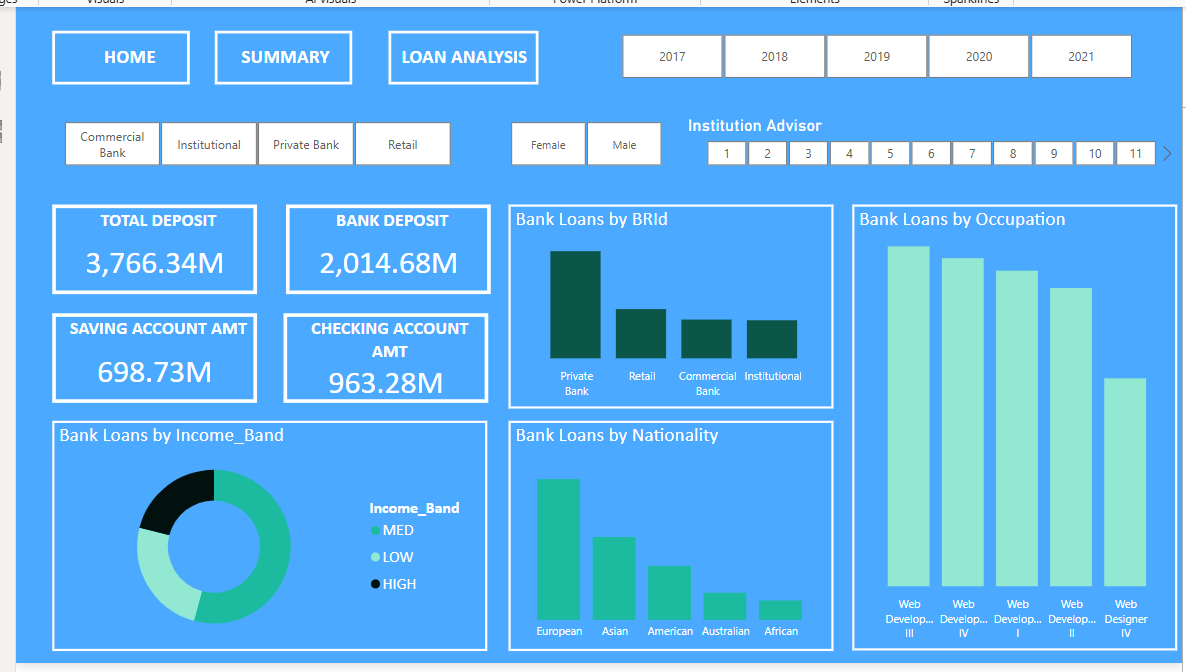

The dashboard page shown, as its layout file describes it:
{"tool":"powerbi","page":{"name":"Deposit Analysis","canvas":[1280,720],"ordinal":2},"visuals":[{"type":"actionButton","box":[39.8,26.1,150.9,59],"z":0},{"type":"actionButton","box":[218.2,26.1,150.9,59],"z":1000},{"type":"actionButton","box":[408.9,26.1,164.7,59],"z":2000},{"type":"card","title":"TOTAL DEPOSIT","fields":{"Values":["Banking.Total_Deposit"]},"box":[39.8,216.8,225,98.8],"z":3000},{"type":"card","title":"BANK DEPOSIT","fields":{"Values":["Sum(Banking.Bank Deposits)"]},"box":[296.4,216.8,225,98.8],"z":4000},{"type":"card","title":"SAVING ACCOUNT AMT","fields":{"Values":["Sum(Banking.Saving Accounts)"]},"box":[39.8,336.2,225,98.8],"z":5000},{"type":"card","title":"CHECKING ACCOUNT AMT","fields":{"Values":["Sum(Banking.Checking Accounts)"]},"box":[293.7,336.2,225,98.8],"z":6000},{"type":"donutChart","title":"Bank Loans by Income_Band","fields":{"Category":["Banking.Income_Band"],"Y":["Sum(Banking.Bank Deposits)"]},"box":[39.8,454.2,477.5,252.5],"z":7000},{"type":"slicer","fields":{"Values":["Banking.BRId"]},"box":[27.4,119.4,473.4,61.7],"z":8000},{"type":"slicer","fields":{"Values":["Banking.GenderId"]},"box":[517.3,119.4,215.4,61.7],"z":9000},{"type":"slicer","title":"Institution Advisor","fields":{"Values":["Banking.IAId"]},"box":[732.8,119.4,542,61.7],"z":10000},{"type":"columnChart","title":"Bank Loans by BRId","fields":{"Category":["Banking.BRId"],"Y":["Sum(Banking.Bank Deposits)"]},"box":[540.7,216.8,356.8,223.7],"z":11000},{"type":"columnChart","title":"Bank Loans by Nationality","fields":{"Y":["Sum(Banking.Bank Deposits)"],"Category":["Banking.Nationality"]},"box":[540.7,454.2,356.8,252.5],"z":12000},{"type":"columnChart","title":"Bank Loans by Occupation","fields":{"Y":["Sum(Banking.Bank Deposits)"],"Category":["Banking.Occupation"]},"box":[918,216.8,356.8,489.9],"z":13000},{"type":"textbox","box":[218.2,37,146.8,38.4],"z":14000},{"type":"textbox","box":[27.4,37,146.8,38.4],"z":15000},{"type":"textbox","box":[393.8,37,211.3,38.4],"z":16000},{"type":"slicer","fields":{"Values":["DATEMASTER.YEAR"]},"box":[639.5,23.3,609.3,61.7],"z":17000}]}

Visuals, with their boxes in screenshot pixels (x1, y1, x2, y2):
actionButton: <box>49,30,187,84</box>
actionButton: <box>212,30,350,84</box>
actionButton: <box>386,30,536,84</box>
"TOTAL DEPOSIT" card: <box>49,204,254,295</box>
"BANK DEPOSIT" card: <box>283,204,489,295</box>
"SAVING ACCOUNT AMT" card: <box>49,313,254,404</box>
"CHECKING ACCOUNT AMT" card: <box>281,313,486,404</box>
"Bank Loans by Income_Band" donutChart: <box>49,421,485,652</box>
slicer - Banking.BRId: <box>37,115,470,172</box>
slicer - Banking.GenderId: <box>485,115,682,172</box>
"Institution Advisor" slicer: <box>682,115,1177,172</box>
"Bank Loans by BRId" columnChart: <box>506,204,832,409</box>
"Bank Loans by Nationality" columnChart: <box>506,421,832,652</box>
"Bank Loans by Occupation" columnChart: <box>851,204,1177,652</box>
textbox: <box>212,40,346,75</box>
textbox: <box>37,40,172,75</box>
textbox: <box>372,40,565,75</box>
slicer - DATEMASTER.YEAR: <box>597,27,1153,84</box>
